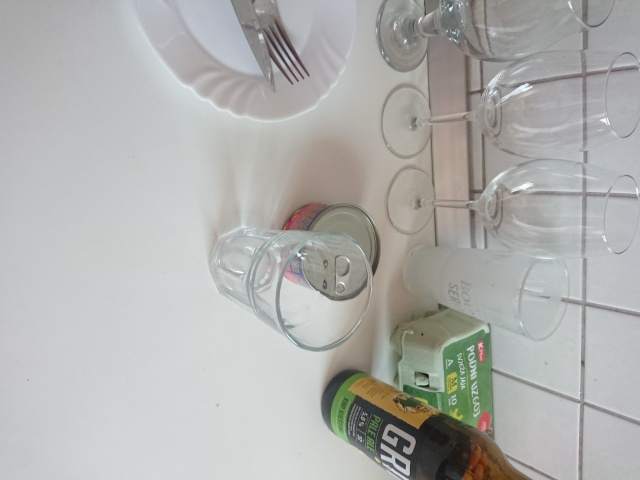Giana Tuna Salad Mexico 185g: (277, 199, 383, 303)
